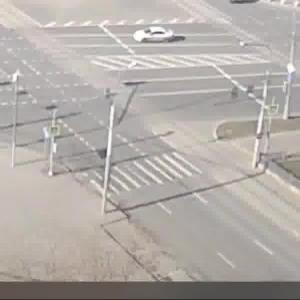car: (137, 27, 176, 45)
